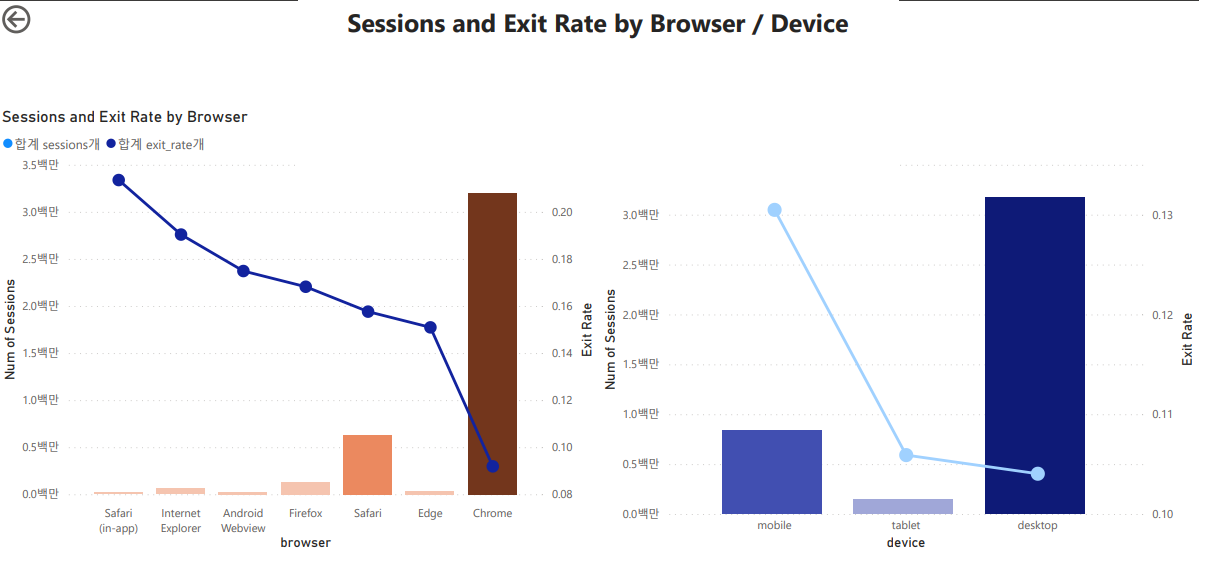

What the dashboard file says about the page in this screenshot:
{"tool":"powerbi","page":{"name":"Browser and Device","canvas":[1280,720],"ordinal":4},"visuals":[{"type":"lineClusteredColumnComboChart","title":"Sessions and Exit Rate by Browser","fields":{"Category":["Brower.browser"],"Y":["Sum(Brower.sessions)"],"Y2":["Sum(Brower.exit_rate)"]},"box":[0,112.5,640,477.5],"z":0},{"type":"actionButton","box":[0,0,100,40],"z":1},{"type":"lineClusteredColumnComboChart","title":"Sessions and Exit Rate by Device","fields":{"Category":["Device.device"],"Y2":["Sum(Device.exit_rate)"],"Y":["Sum(Device.sessions)"]},"box":[640,112.5,640,477.5],"z":2},{"type":"textbox","box":[320,0,640,192.5],"z":3}]}

Visuals, with their boxes on the page's 1280x720 design canvas (x1, y1, x2, y2). These are canvas units, not pixel positions in the 1206x574 screenshot, which may show the page scaled, cropped or inside an application window:
"Sessions and Exit Rate by Browser" lineClusteredColumnComboChart: <bbox>0, 112, 640, 590</bbox>
actionButton: <bbox>0, 0, 100, 40</bbox>
"Sessions and Exit Rate by Device" lineClusteredColumnComboChart: <bbox>640, 112, 1280, 590</bbox>
textbox: <bbox>320, 0, 960, 192</bbox>
